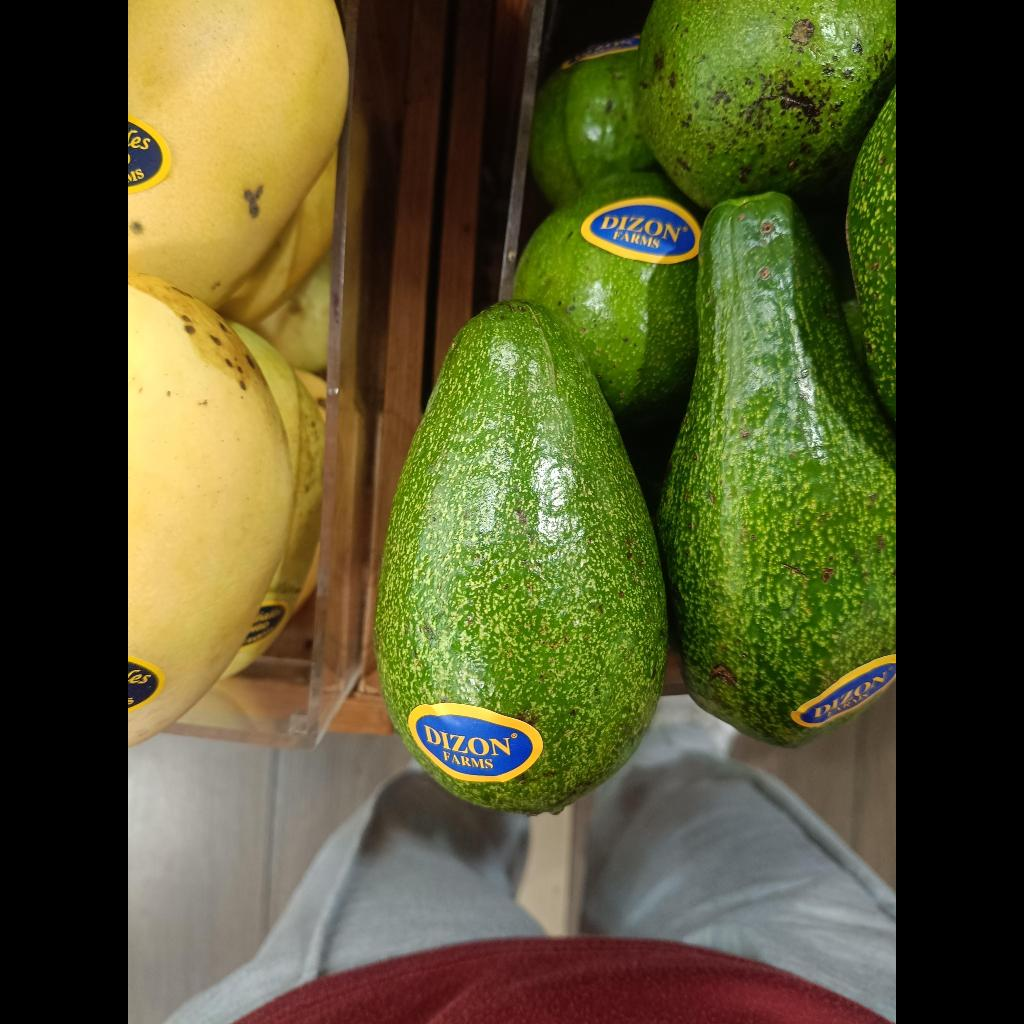fruto_sano: (375, 299, 667, 813)
